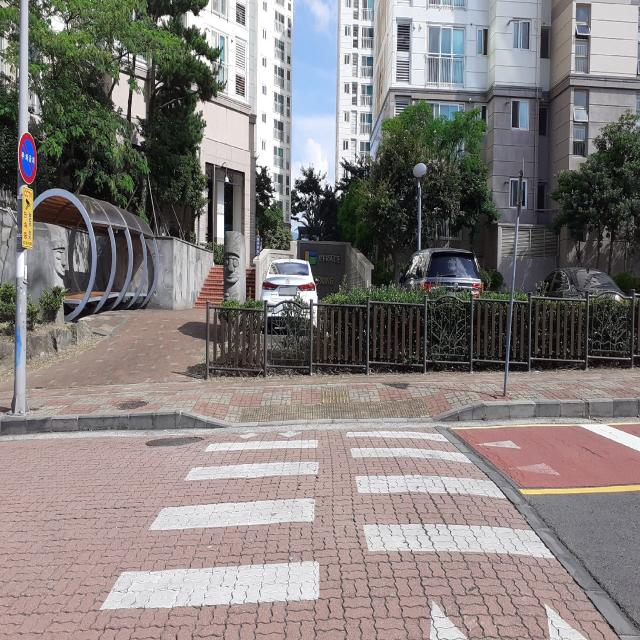횡단보도: (99, 431, 589, 640)
